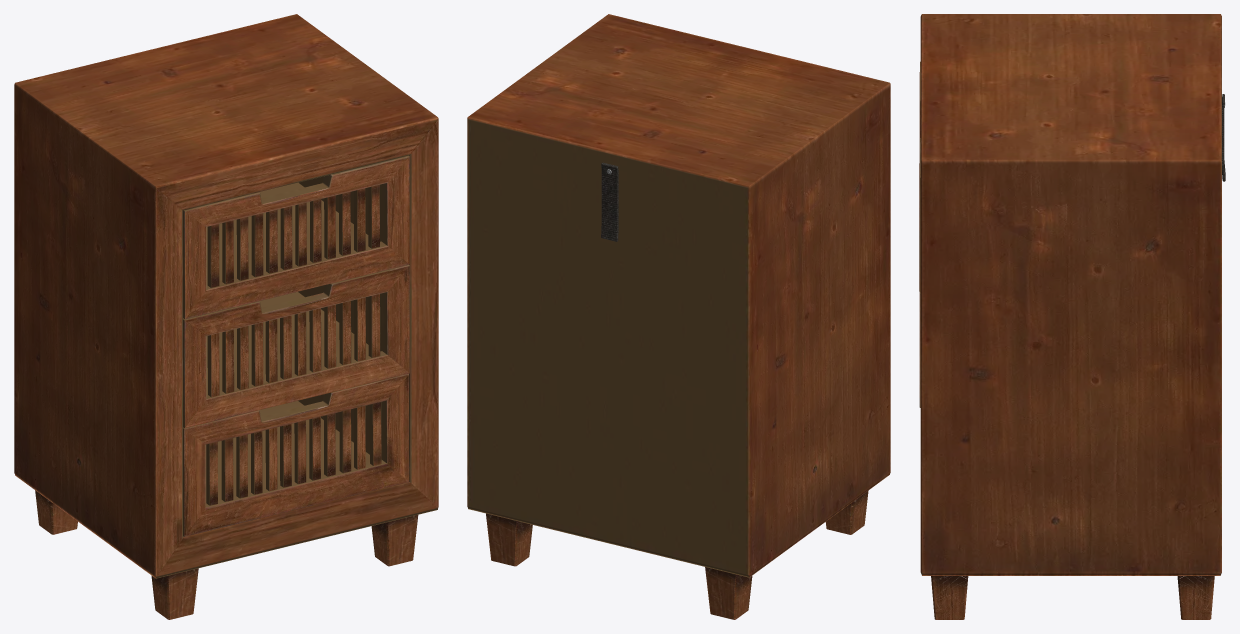
File: abo-B074KKMQBG.glb
3 renders of one model, left to right at view 1: azimuth 30°, elevation 25°; view 2: azimuth 150°, elevation 25°; view 3: azimuth 270°, elevation 25°, orthographic. The views are drawn at different scales.
Size of the model in its own units: 0.465 by 0.695 by 0.41.
1 material, 1 textured.
